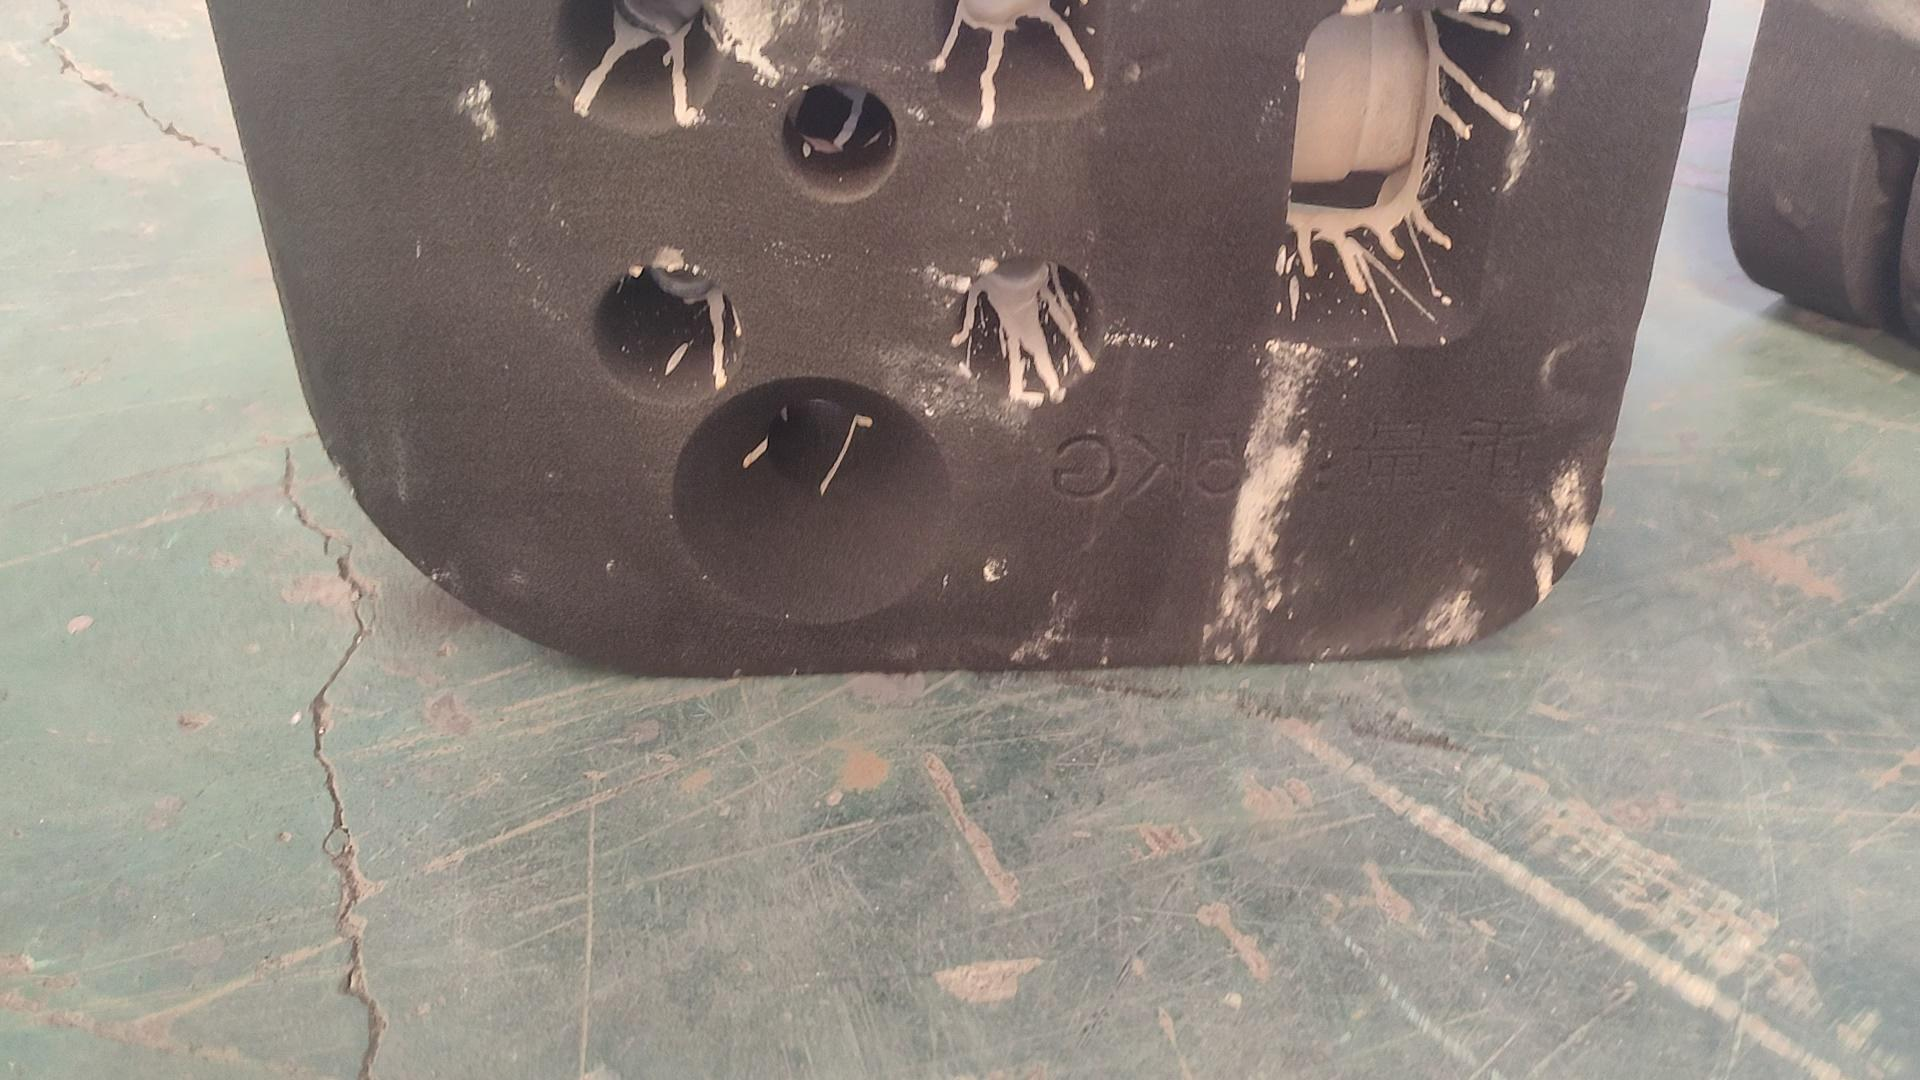pouring hole: (671, 378, 953, 626)
